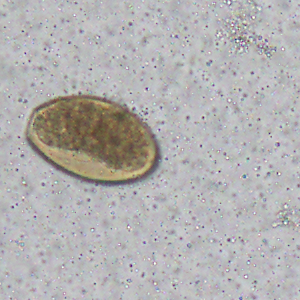Fasciola_hepatica_egg: (24, 94, 160, 187)
